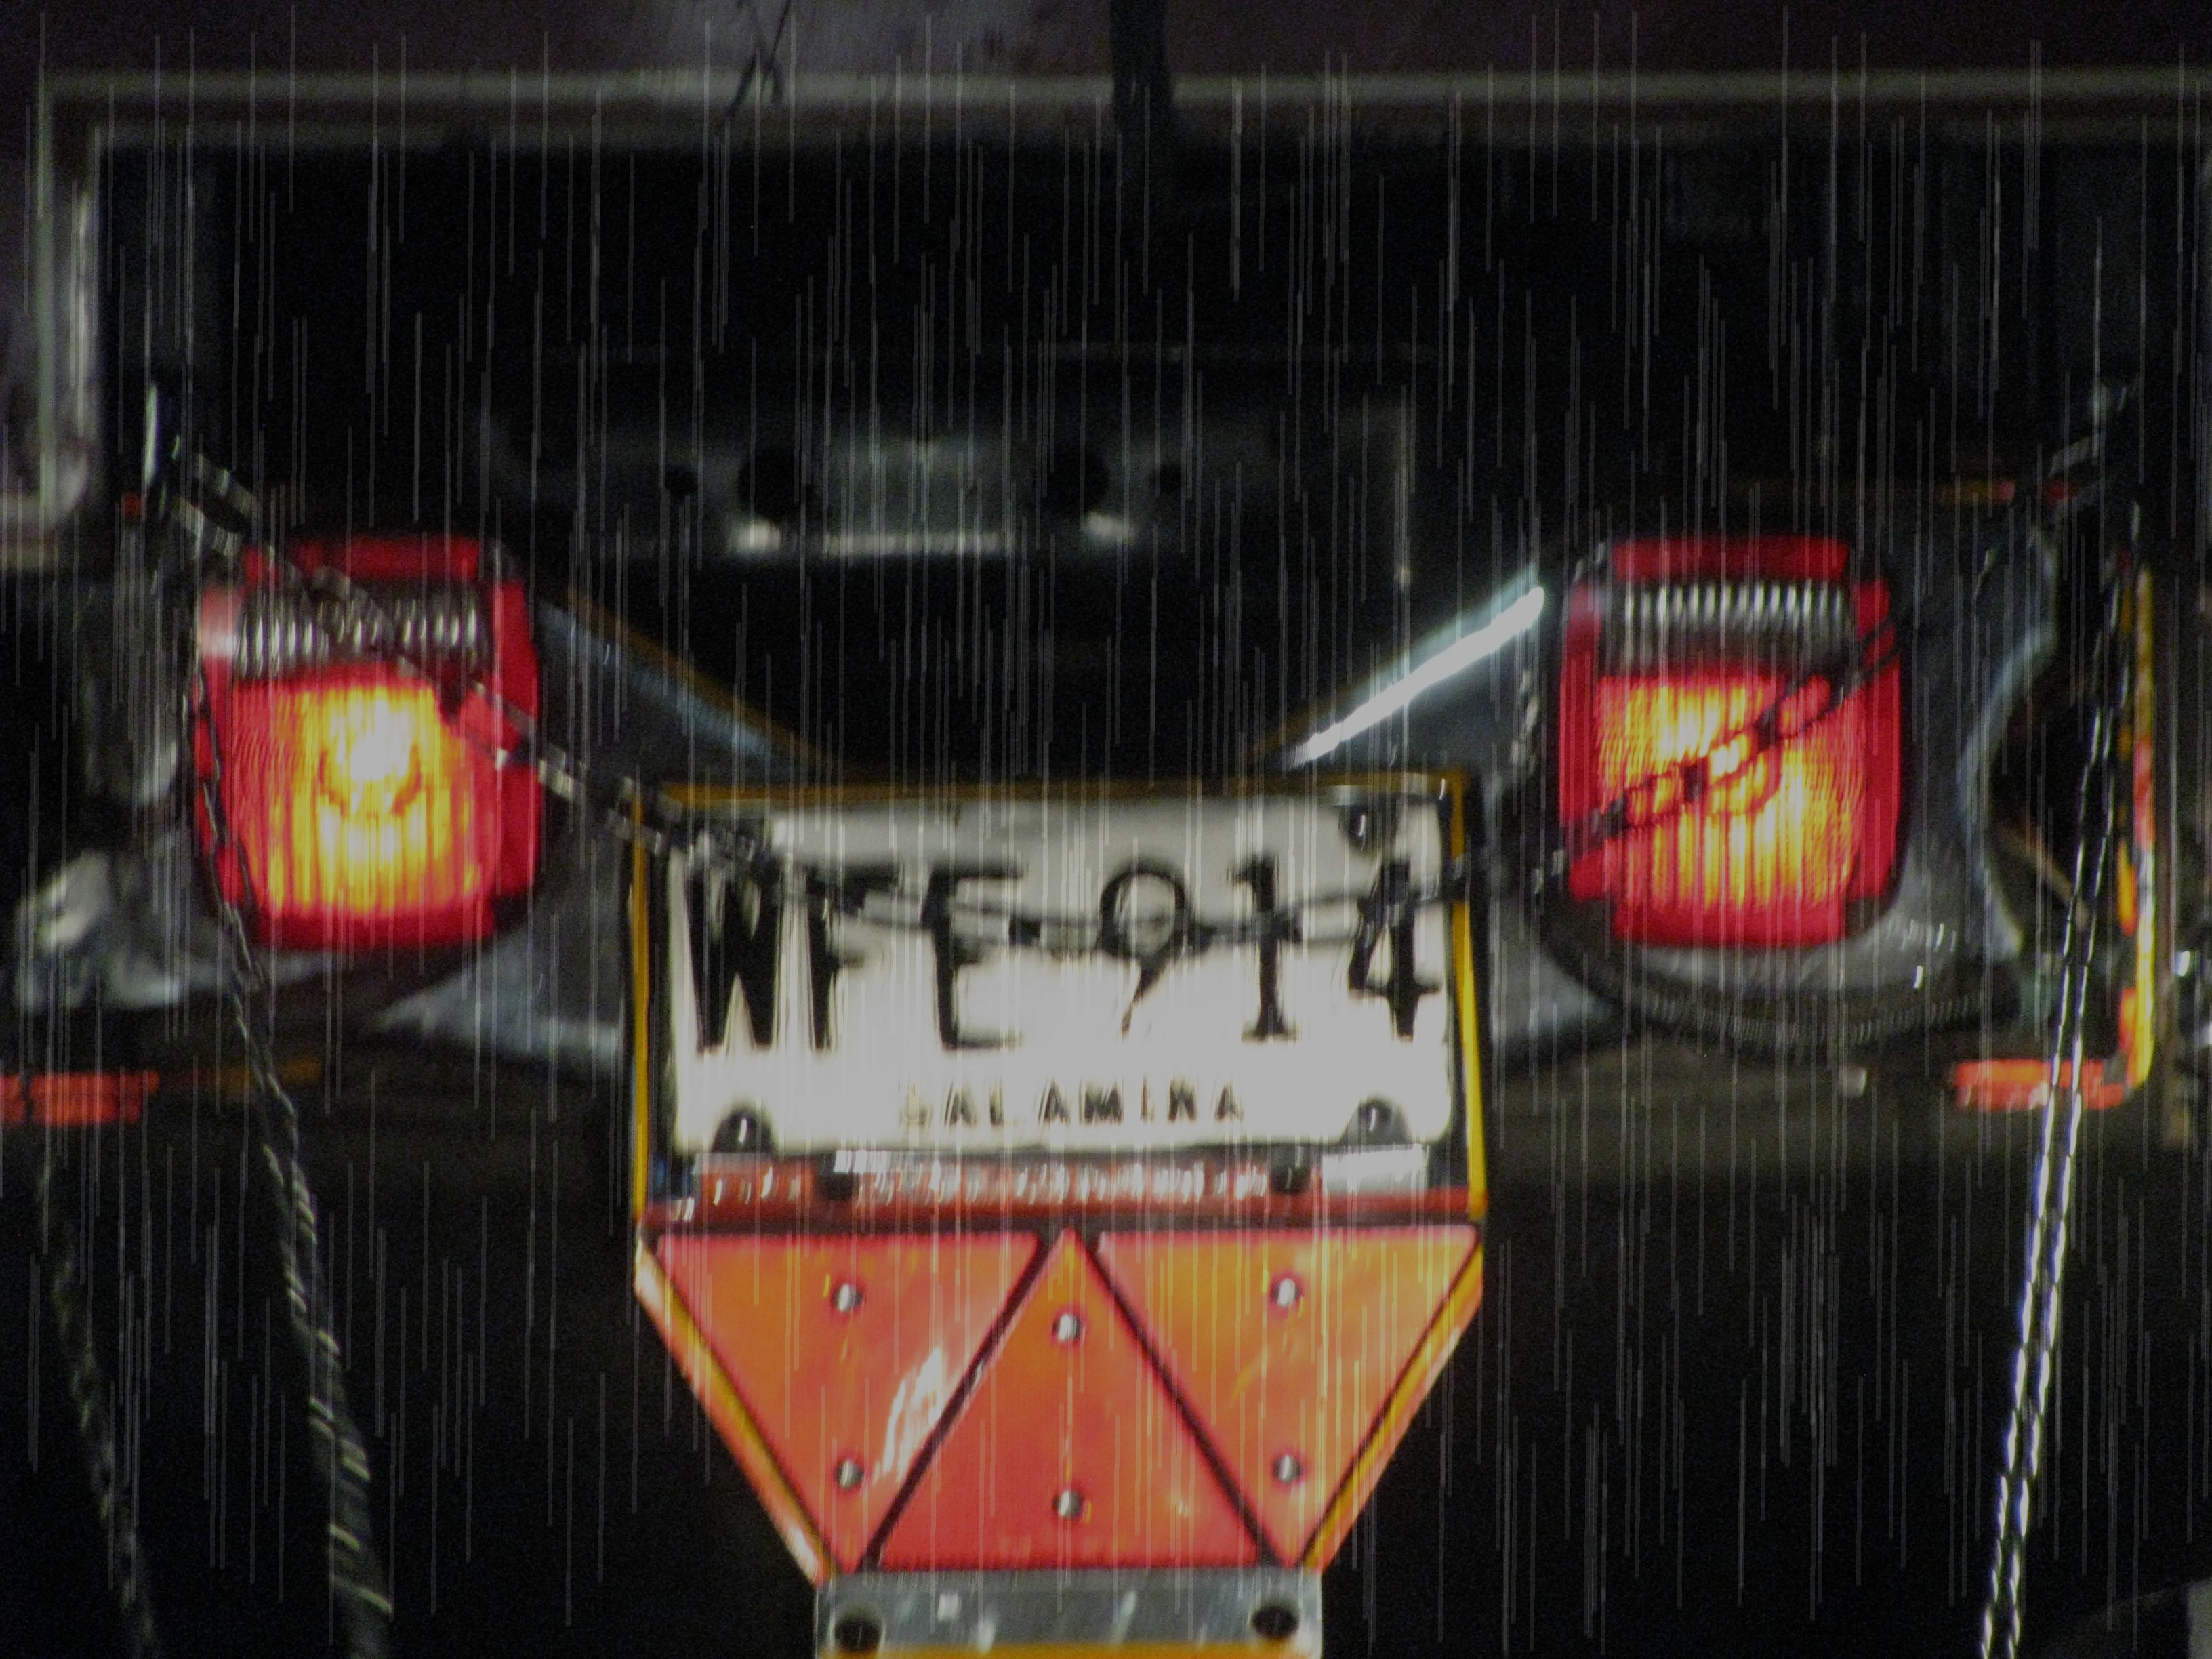placas: (623, 772, 1469, 1162)
